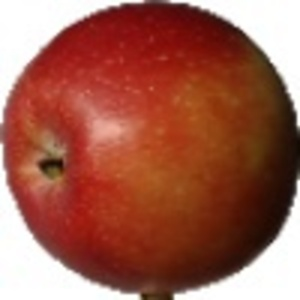maçã braeburn: (1, 2, 297, 292)
